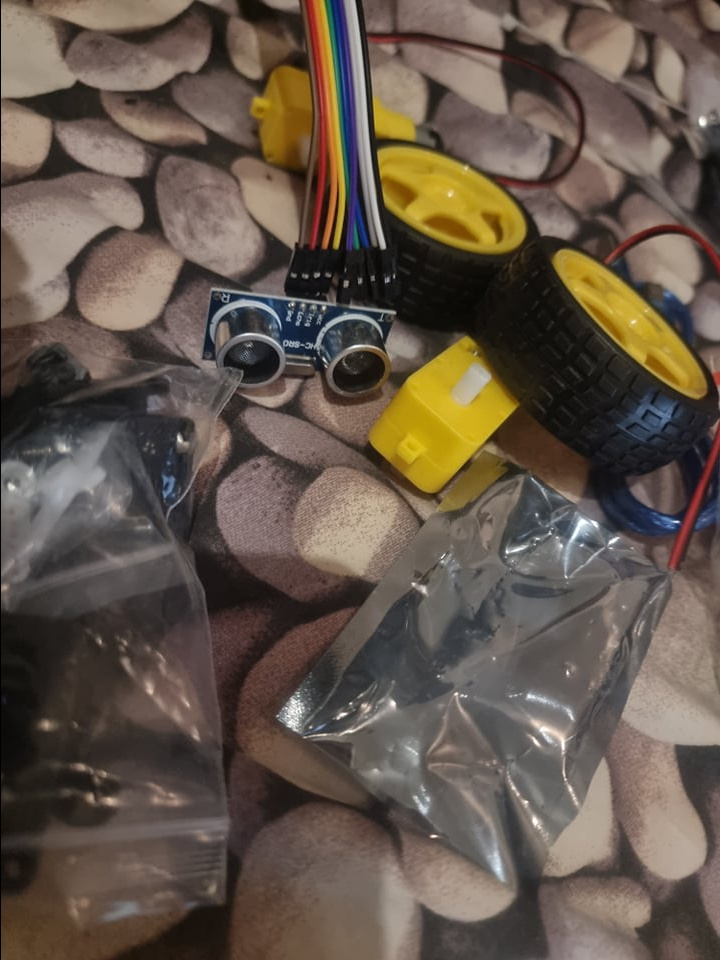SENSOR: (204, 305, 395, 397)
